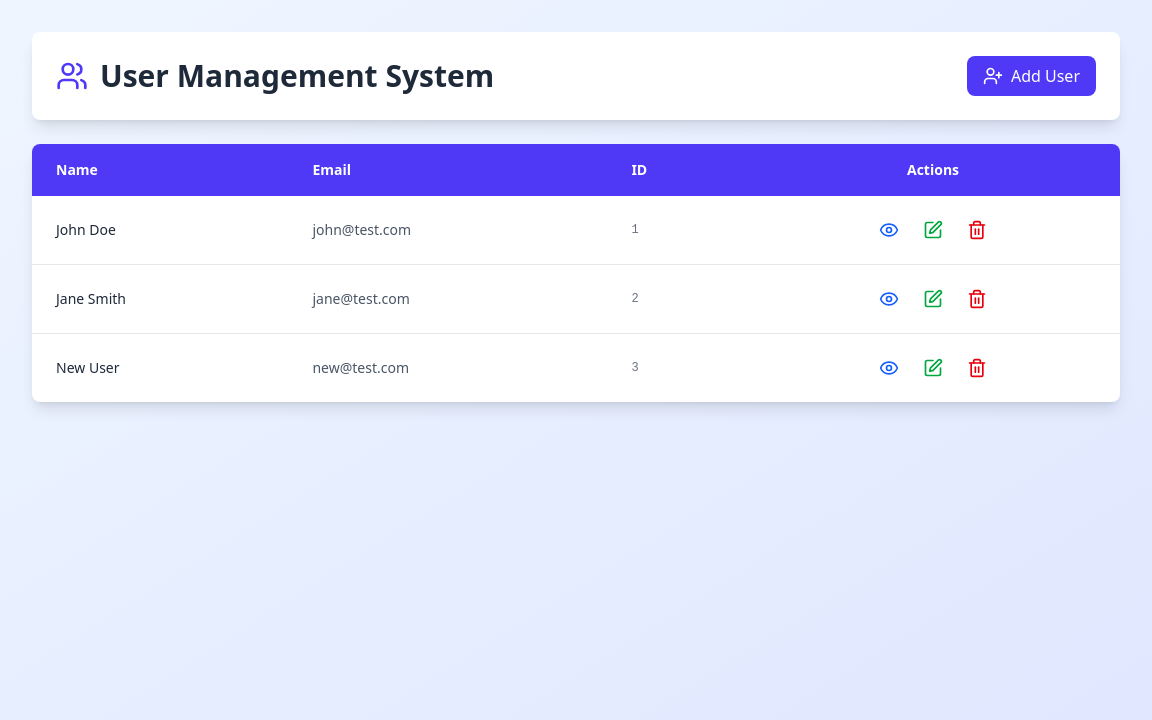
Test case: App Component - Integration Tests › should create a new user successfully
expect the text "John Doe" is shown: met, box [32, 196, 288, 264]
// Open create modal
Click the button "Add User" at (1031, 76), box [967, 56, 1096, 96]
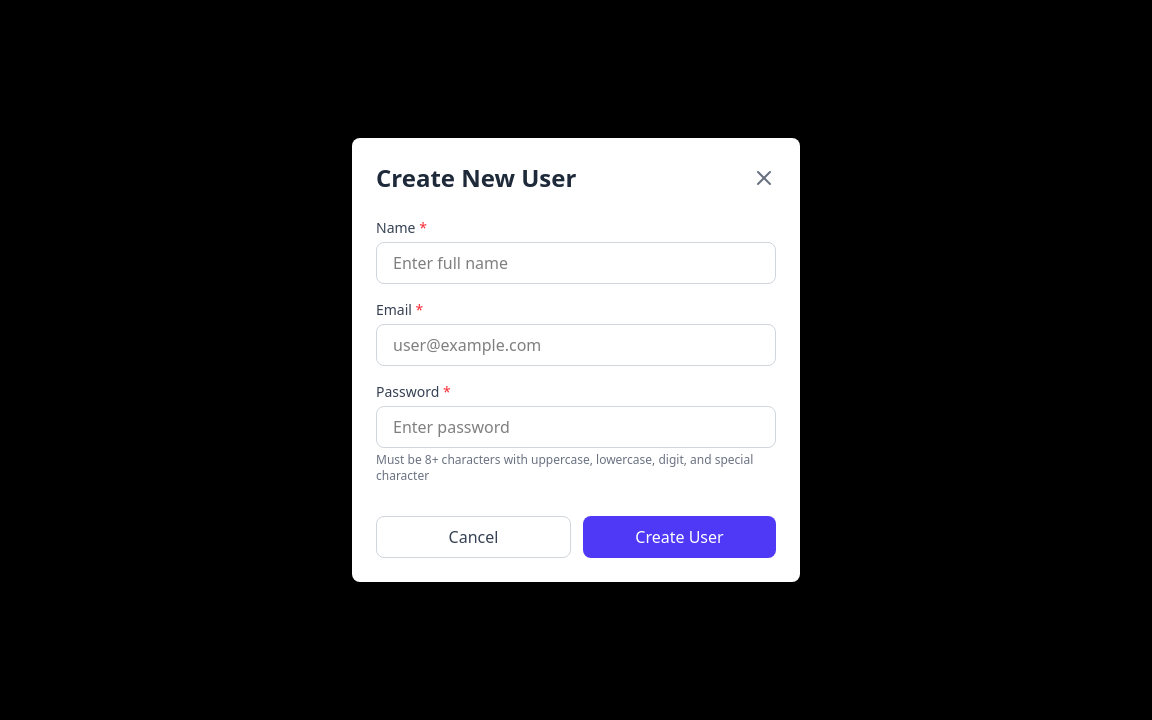
// Fill form
Type "New User" into the field labelled "Name *" at (576, 263), box [376, 242, 776, 284]
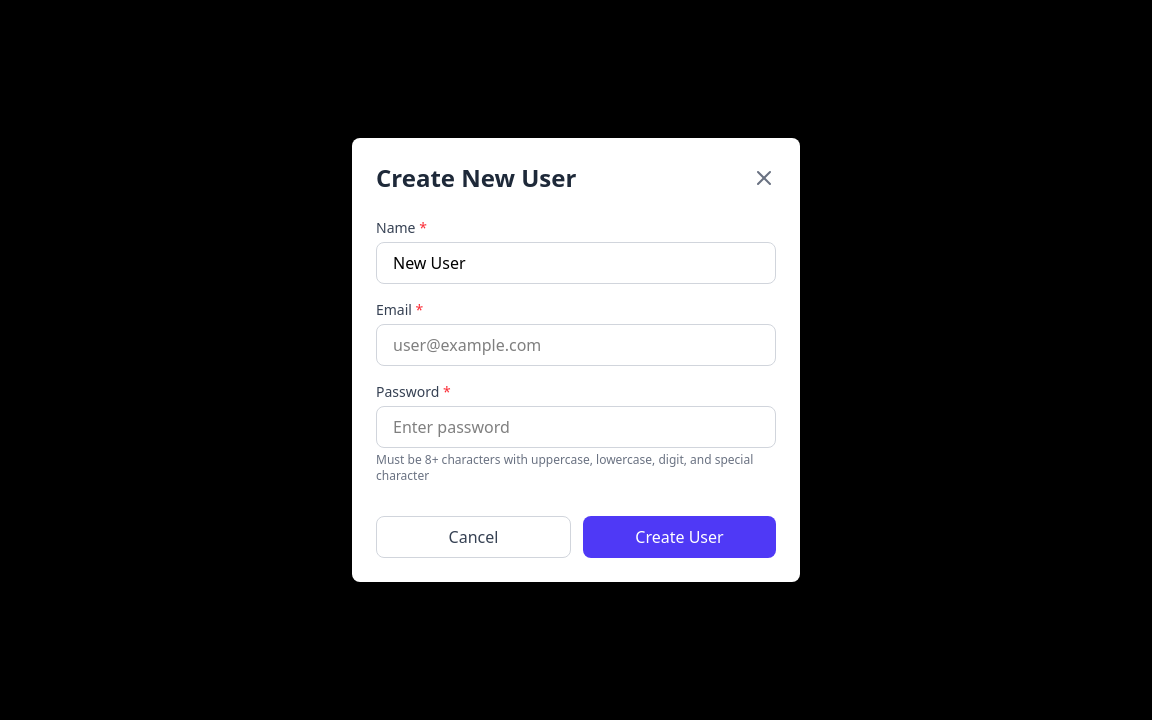
Type "new@test.com" into the field labelled "Email *" at (576, 345), box [376, 324, 776, 366]
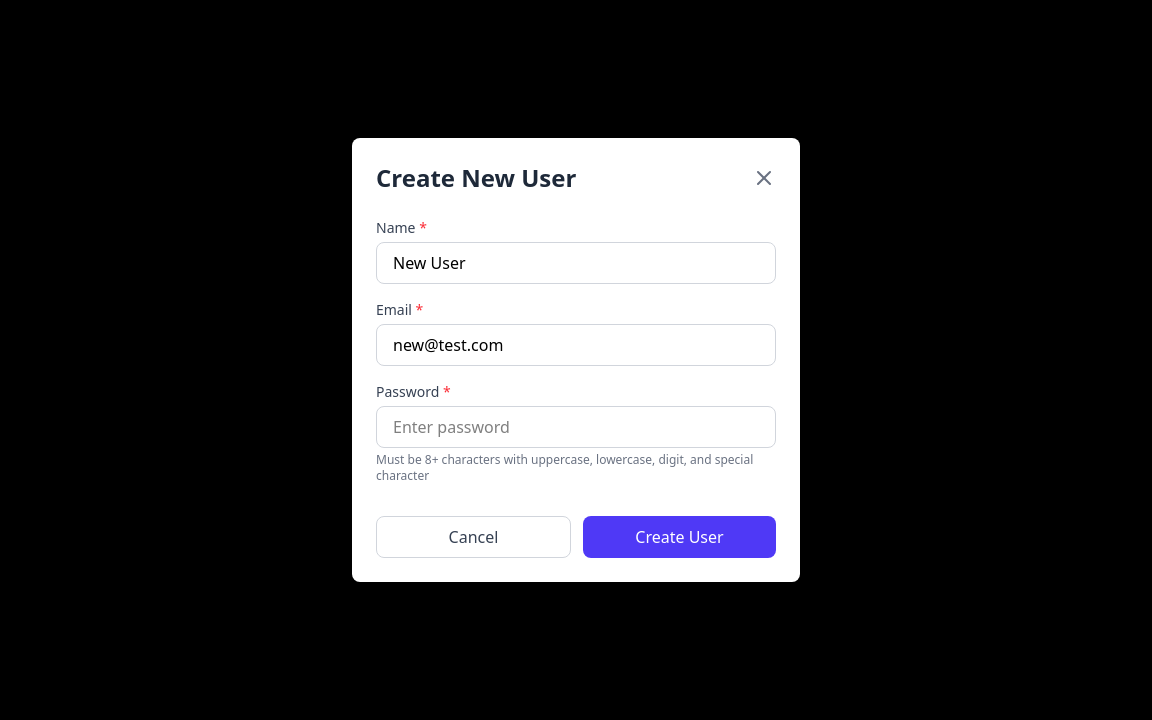
Type "Password123!" into the password field labelled "Password *" at (576, 427), box [376, 406, 776, 448]
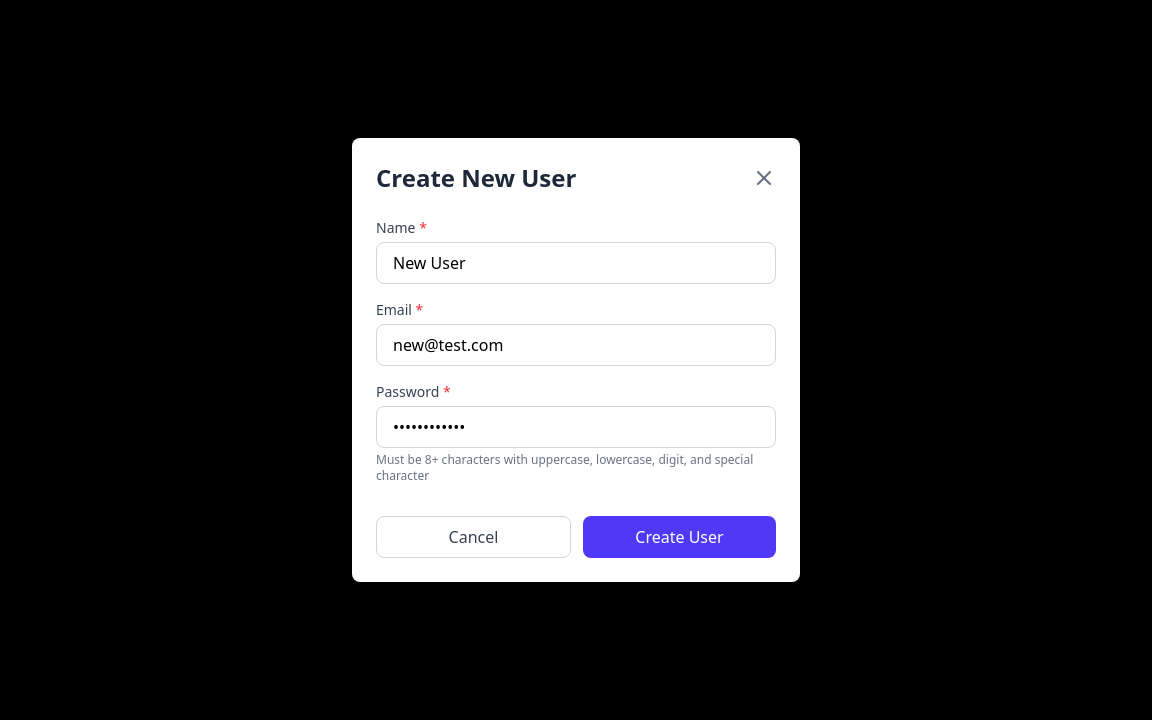
Click the button "Create User" at (680, 537), box [583, 516, 776, 558]
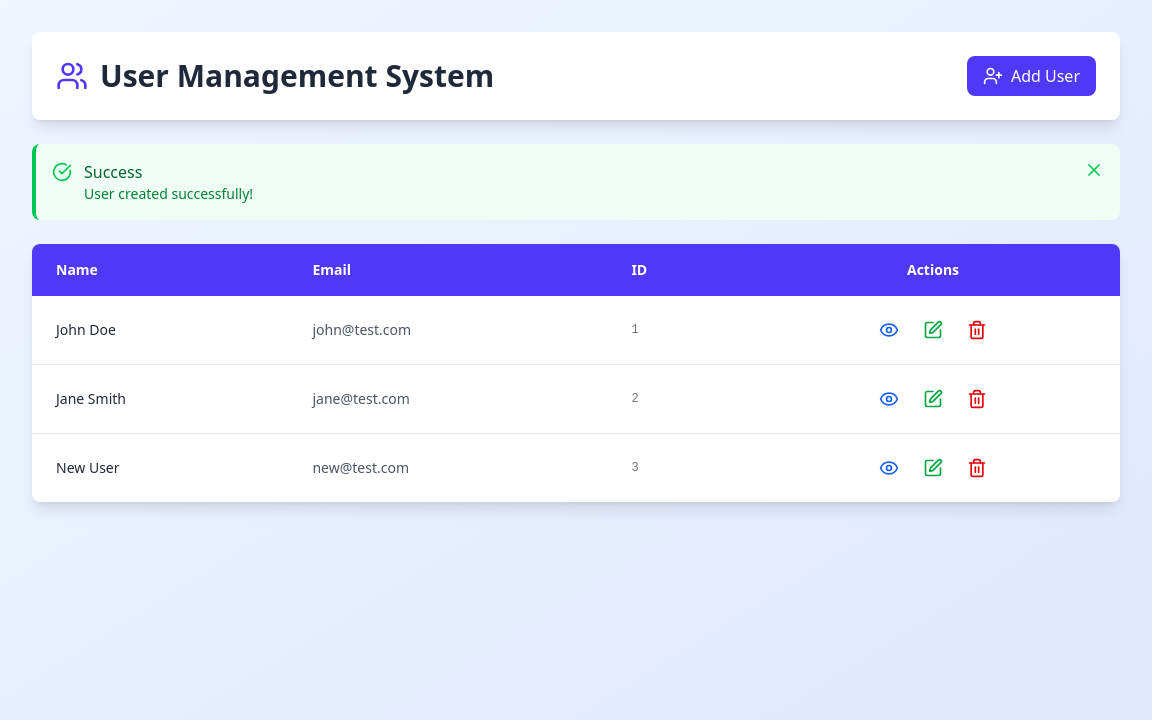
expect the text "User created successfully!" is shown: met, box [84, 184, 253, 203]
